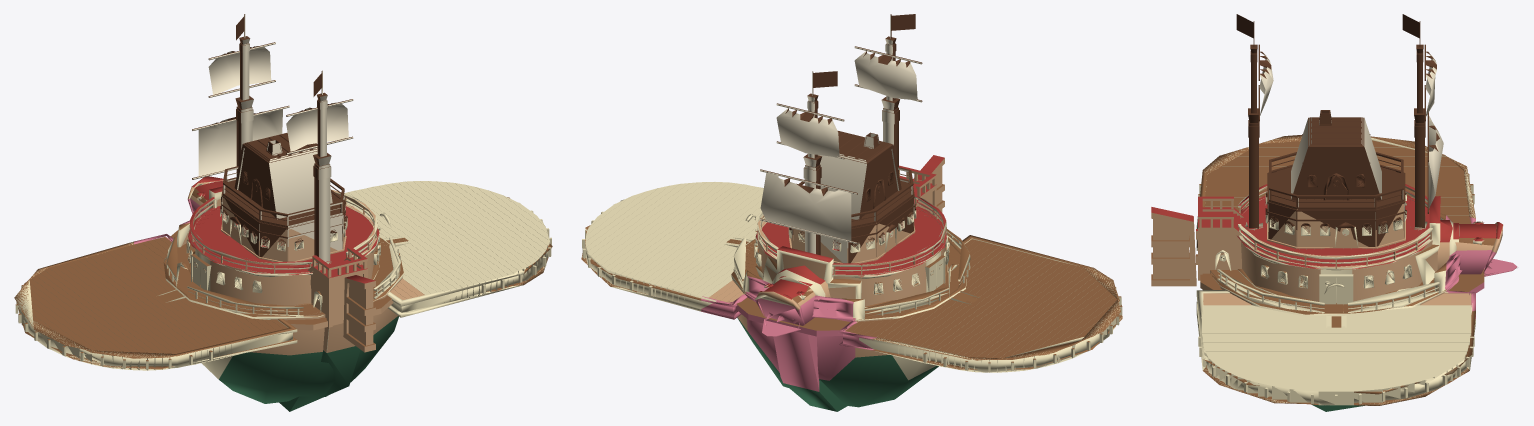
Rendered from baratie-low.glb.
The picture shows the model from 3 angles, left to right: view 1: azimuth 30°, elevation 25°; view 2: azimuth 150°, elevation 25°; view 3: azimuth 270°, elevation 25°; orthographic projection. The views are drawn at different scales.
Visible parts, largest first — view 1: Object_2.024; view 2: Object_2.024; view 3: Object_2.024.
Part boxes in pixels (bbox=[...]): Object_2.024: bbox=[14, 14, 552, 411]; Object_2.024: bbox=[581, 14, 1122, 411]; Object_2.024: bbox=[1151, 14, 1517, 411].
Bounding box in the file's own units: 123 × 84.27 × 73.81.
1 material, 1 textured.
